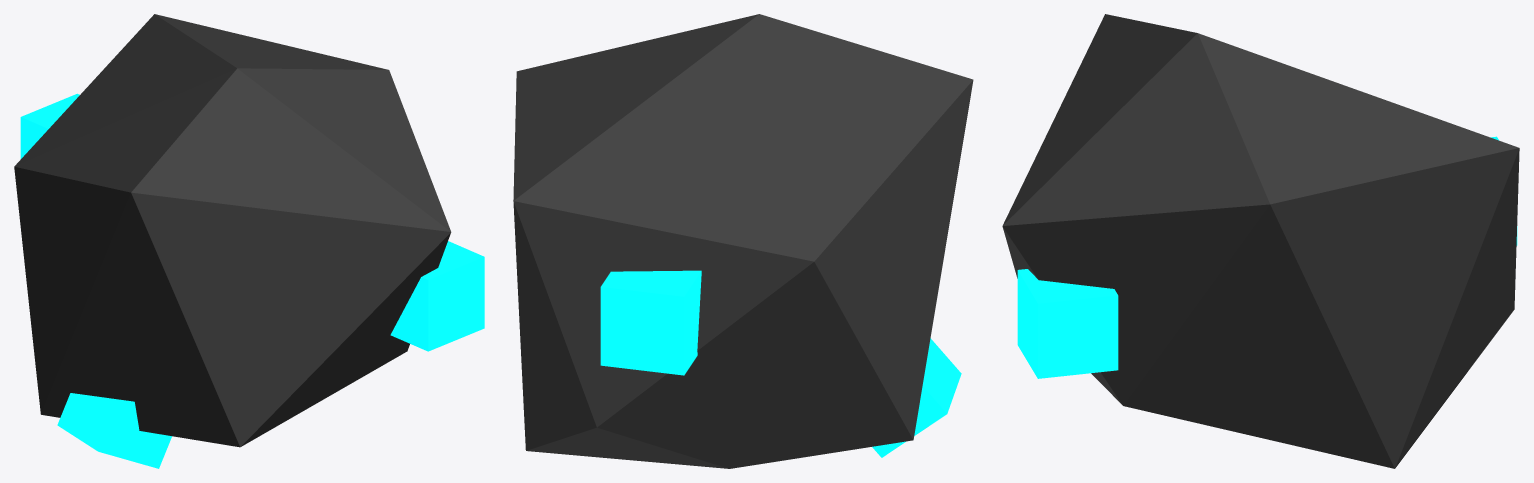
The model's file is rock_linear.glb.
3 views of the same model, side by side, from view 1: azimuth 30°, elevation 25°; view 2: azimuth 150°, elevation 25°; view 3: azimuth 270°, elevation 25° (orthographic). The views are drawn at different scales.
Parts seen in each view (by area): view 1: Icosphere, Cube.001, Cube.002, Cube; view 2: Icosphere, Cube, Cube.002; view 3: Icosphere, Cube.001.
Boxes of the visible parts, <box> form: Icosphere: <box>14,14,451,447</box>; Cube.001: <box>390,241,484,351</box>; Cube.002: <box>57,393,171,468</box>; Cube: <box>20,93,79,158</box>; Icosphere: <box>513,14,973,468</box>; Cube: <box>600,270,701,375</box>; Cube.002: <box>872,338,961,457</box>; Icosphere: <box>1002,14,1519,468</box>; Cube.001: <box>1017,269,1118,378</box>.
Bounding box in the file's own units: 0.8183 × 0.8042 × 0.9655.
